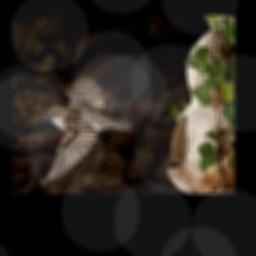Sparrow: (38, 75, 132, 187)
